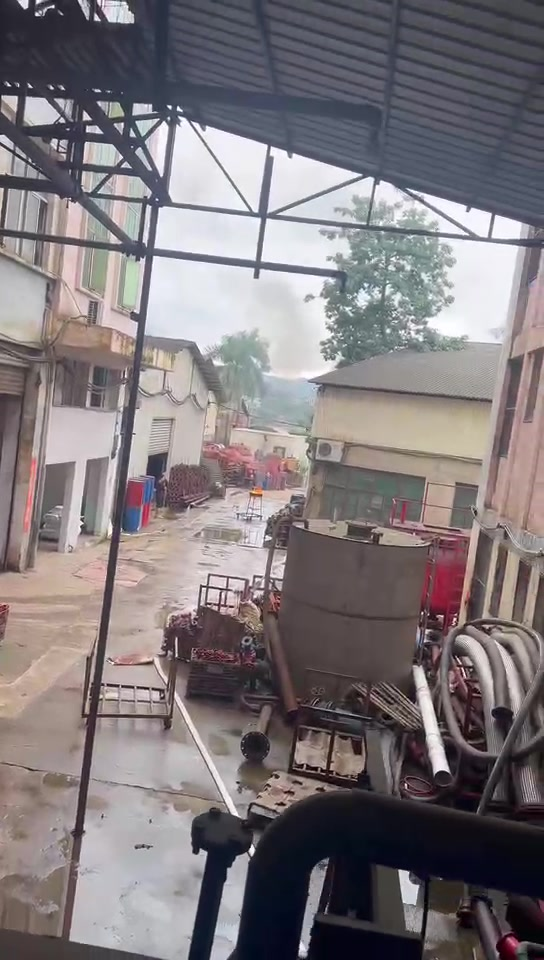fire: (249, 485, 263, 494)
